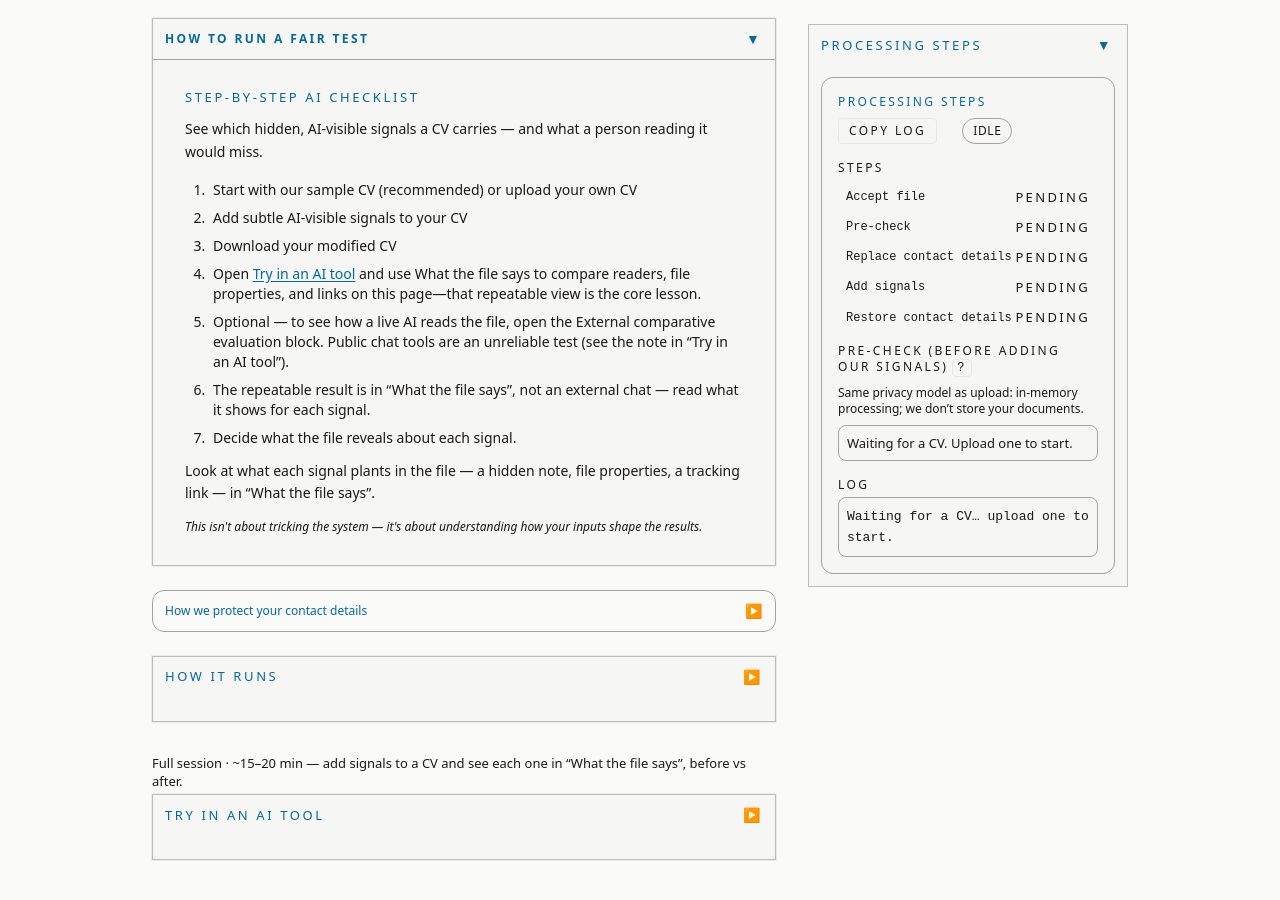
Home page › intro and resources nav › shows HR engine intro when How it runs is expanded and no CV is loaded
The image size is (1280, 900).
(page scrolled)
Click the button with aria-label "how it runs: show or hide" at [222, 676], box [153, 656, 775, 696]
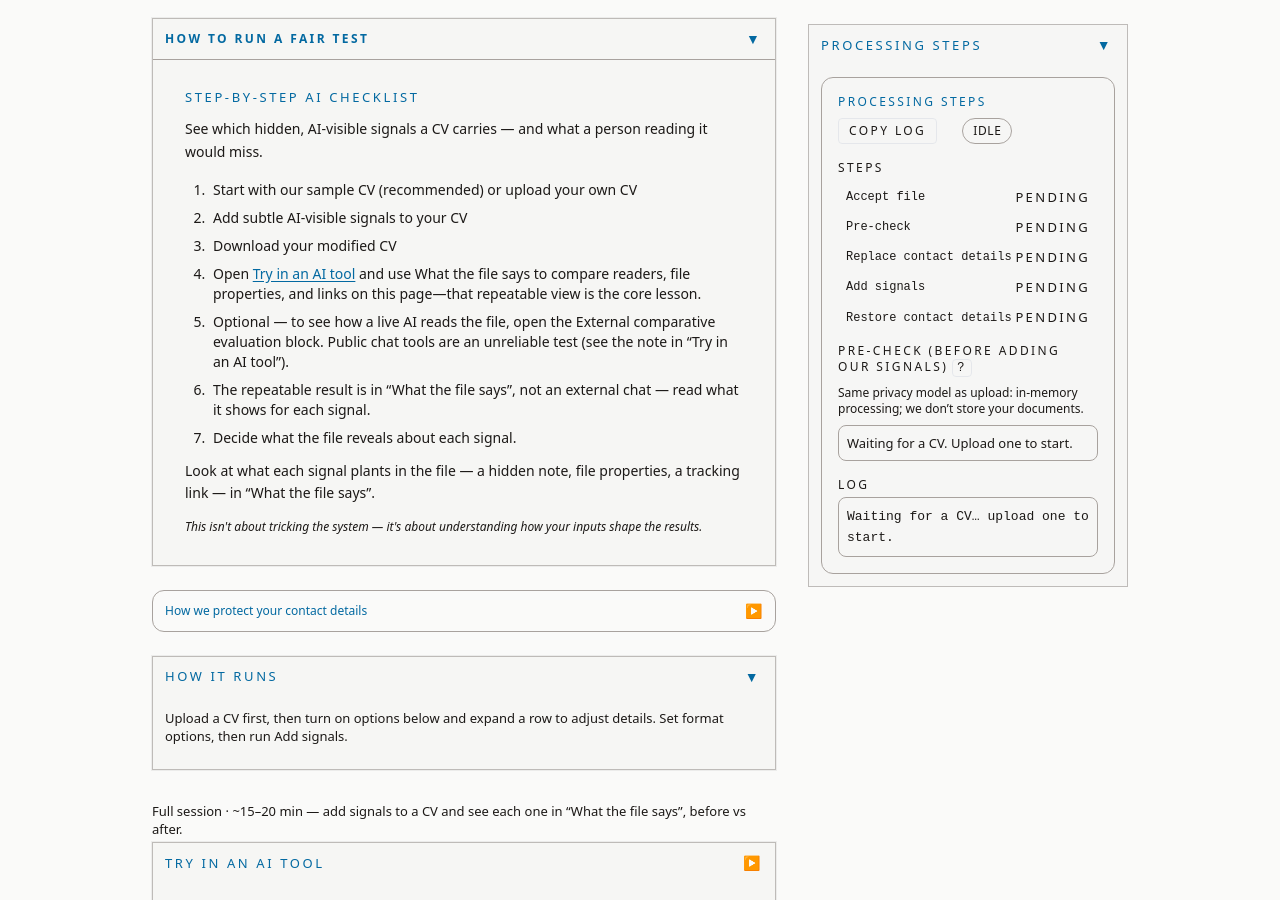
Now the text "Upload a CV first, then turn on options below and expand a row to adjust details" is shown, box [165, 708, 724, 745]
